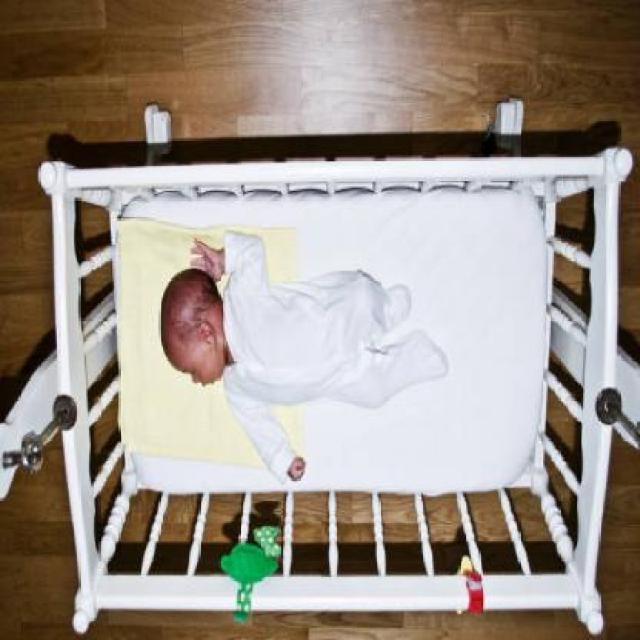baby: (157, 230, 450, 484)
